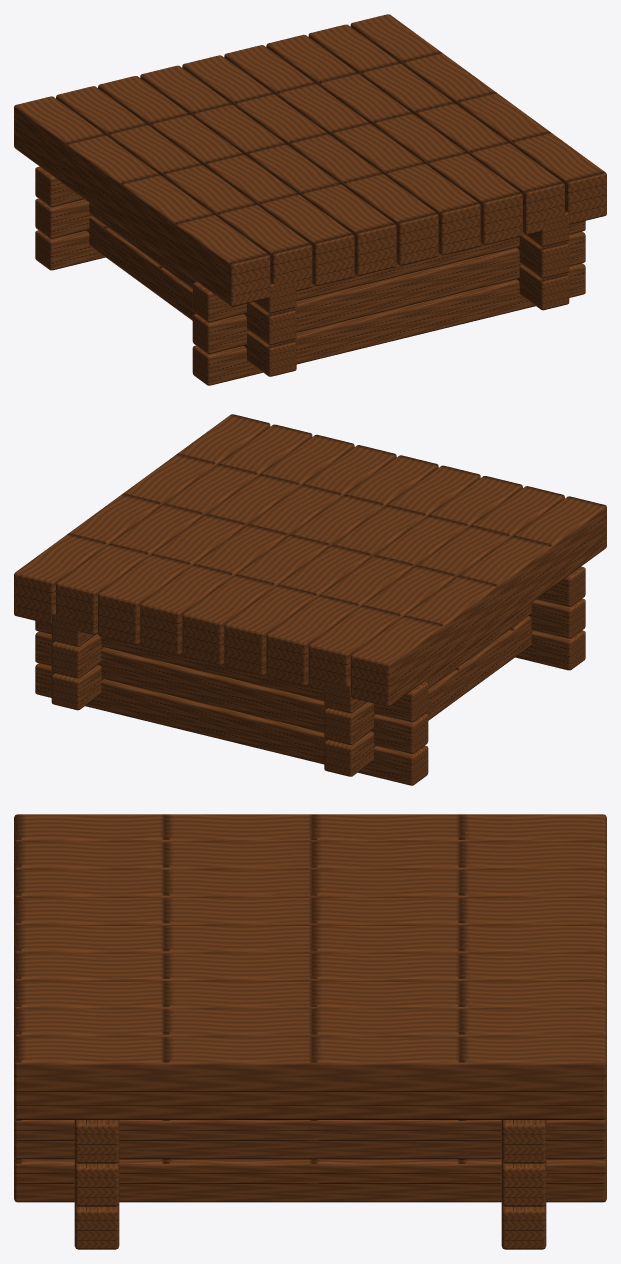
Rendered from modular-survival-base-builder-crib-foundation-79e03acb__24132.glb.
3 views of the same model, one above another, from view 1: azimuth 30°, elevation 25°; view 2: azimuth 150°, elevation 25°; view 3: azimuth 270°, elevation 25° (orthographic). The views are drawn at different scales.
Visible parts, largest first — view 1: crib-foundation; view 2: crib-foundation; view 3: crib-foundation.
Boxes of the visible parts, x1,y1,x2,y2 form: crib-foundation: (14,14,606,385); crib-foundation: (14,414,606,785); crib-foundation: (14,814,606,1249).
Size of the model in its own units: 2 by 0.7 by 2.
Materials: 1 (1 with a texture image).
